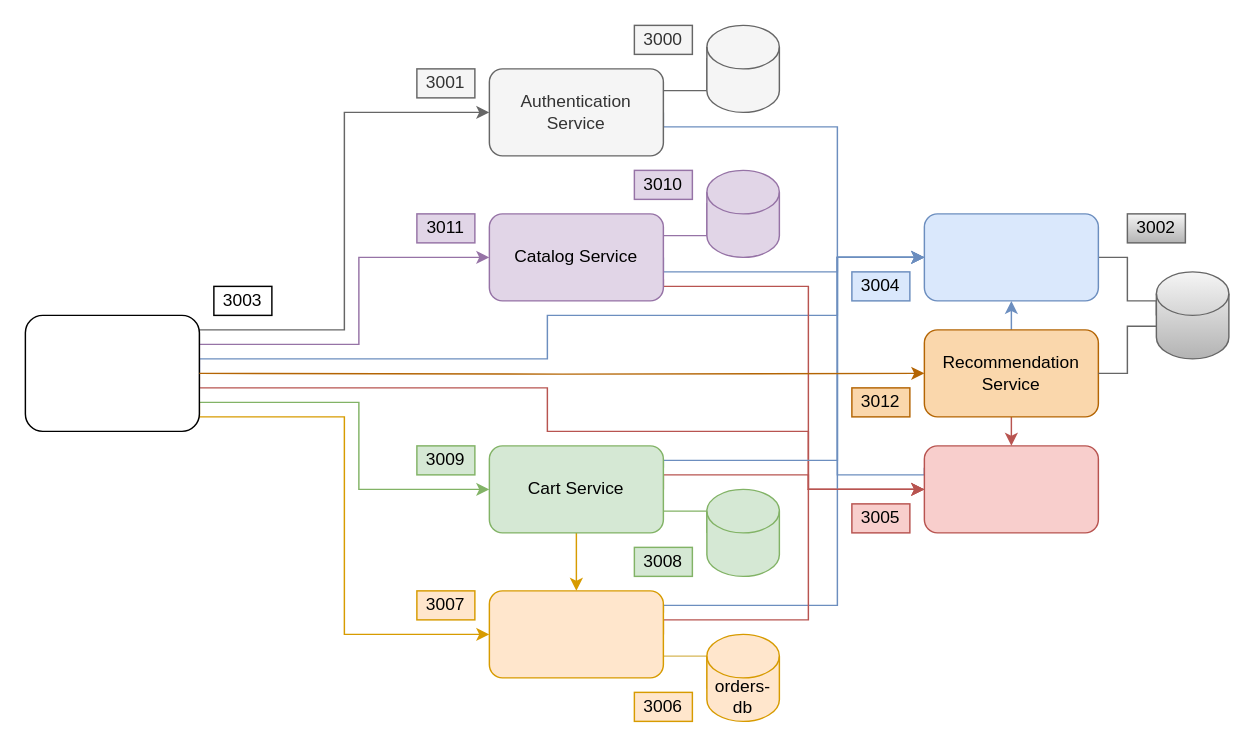
Image size: 1254x747. Some labels were removed from this diagram. The box of each missing label's shape, as (x1, y1, x2, y2) in pixels:
cart-db: (705, 488, 779, 576)
catalog-db: (705, 169, 779, 257)
Front-end: (24, 314, 199, 431)
Logging Service: (923, 212, 1098, 301)
logs-db: (1155, 270, 1229, 359)
Orders Service: (488, 589, 663, 678)
users-db: (705, 24, 779, 112)
Validation Service: (923, 444, 1098, 533)
